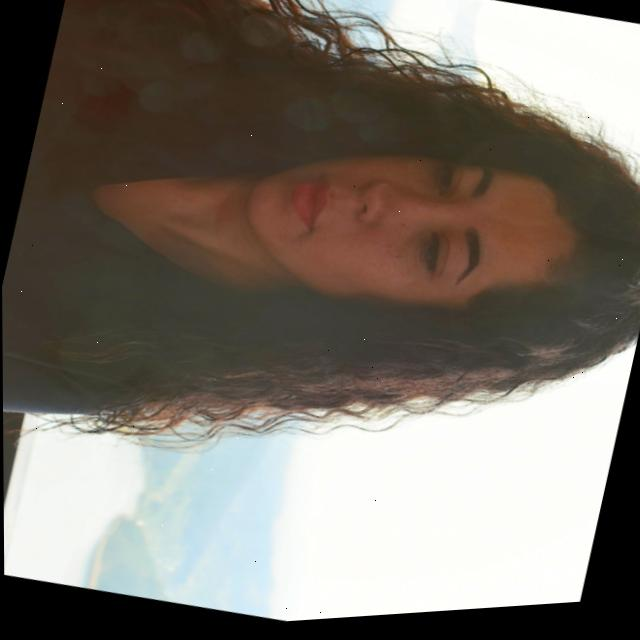natural: (228, 115, 559, 349)
